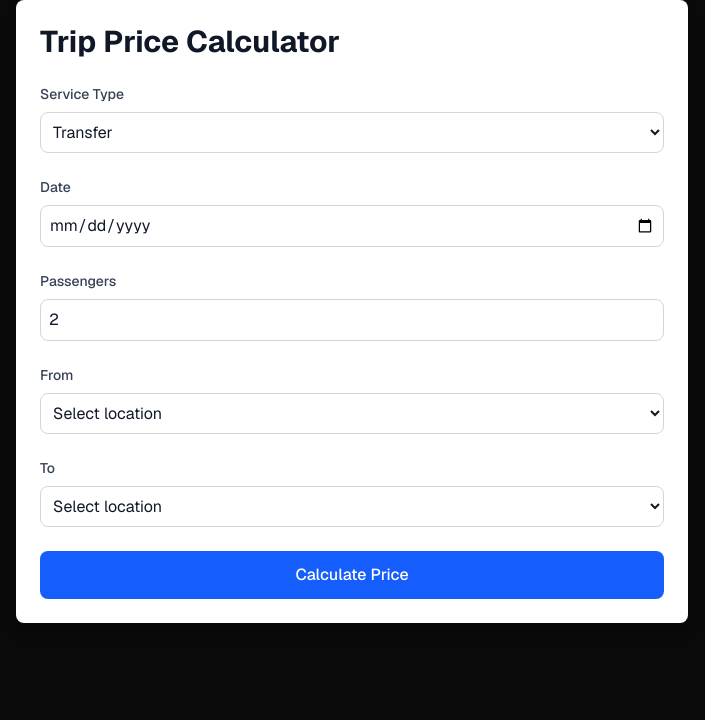
Test: Calculator Component › Special Requests › should display special request message when returned from API
Select "Transfer" in the dropdown labelled "Service Type" at {"x": 352, "y": 132}, box [40,112,664,153]
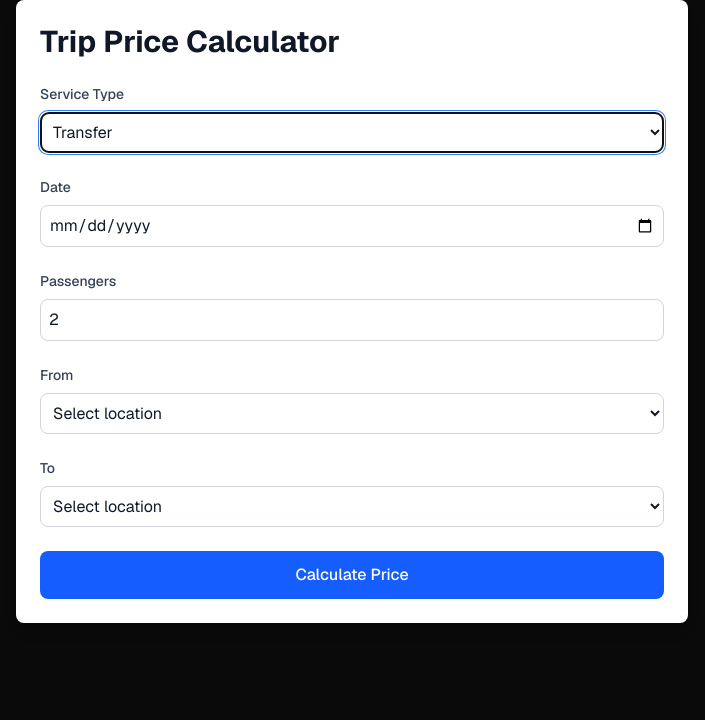
Type "2024-07-15" into the date field labelled "Date" at {"x": 352, "y": 226}, box [40,205,664,247]
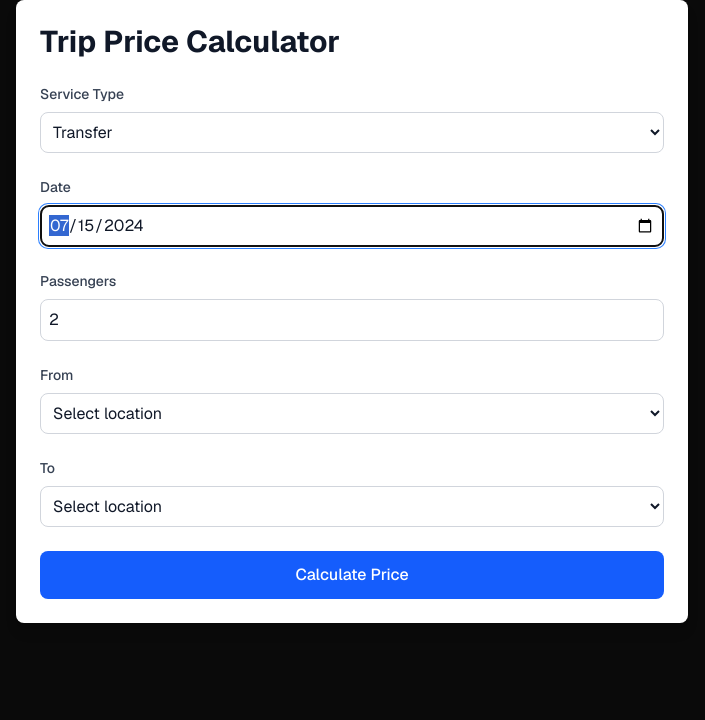
Replace the text in the number field labelled "Passengers" with "4" at {"x": 352, "y": 320}, box [40,299,664,341]
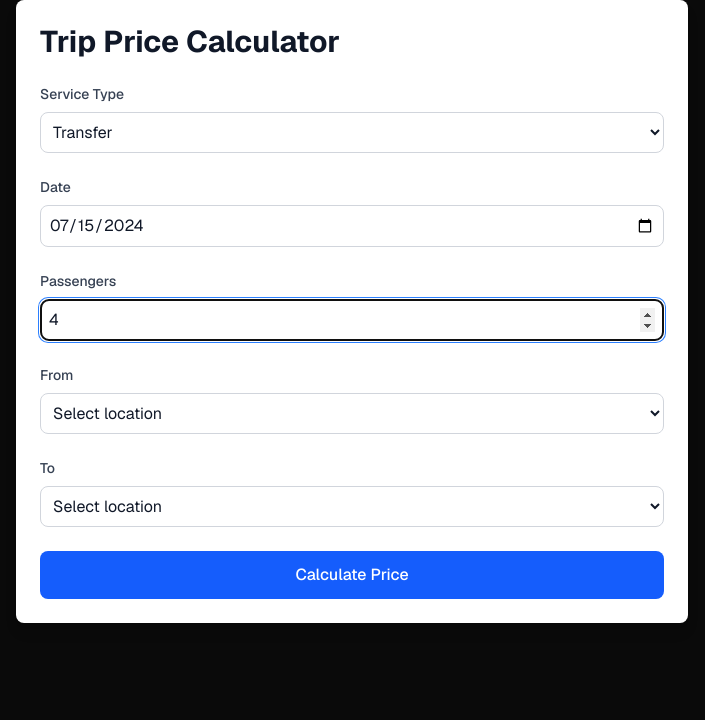
Select "Dubrovnik" in the dropdown labelled "From" at {"x": 352, "y": 414}, box [40,393,664,434]
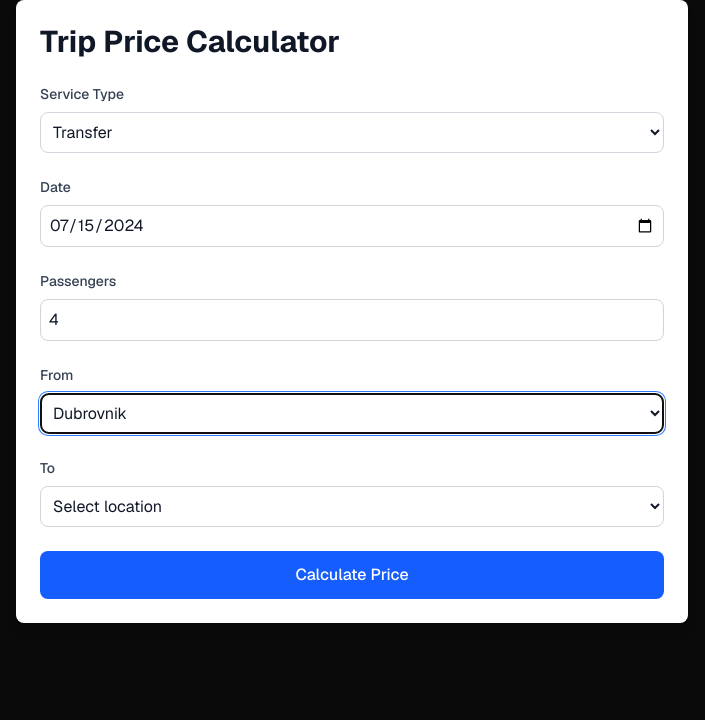
Select "Makarska" in the dropdown labelled "To" at {"x": 352, "y": 506}, box [40,486,664,527]
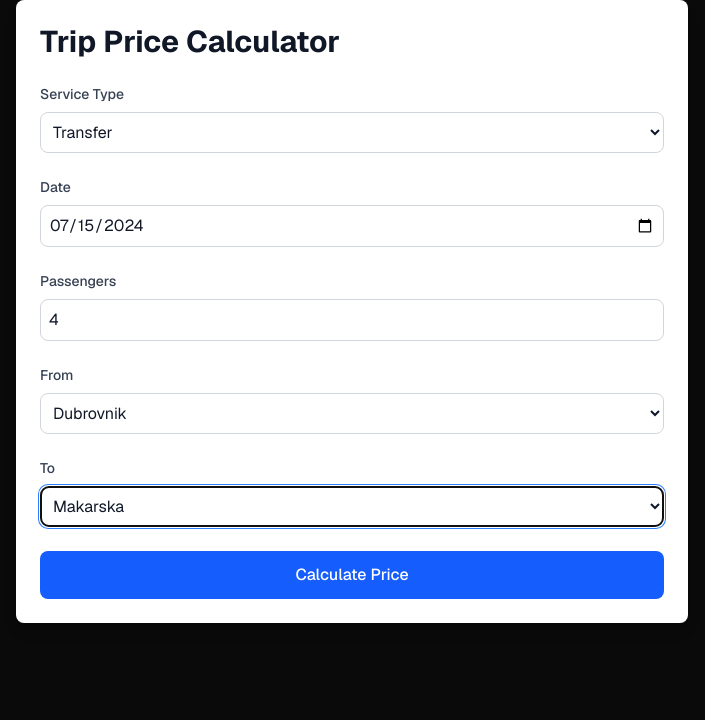
Click the button "Calculate Price" at {"x": 352, "y": 575}, box [40,551,664,599]
(page scrolled)
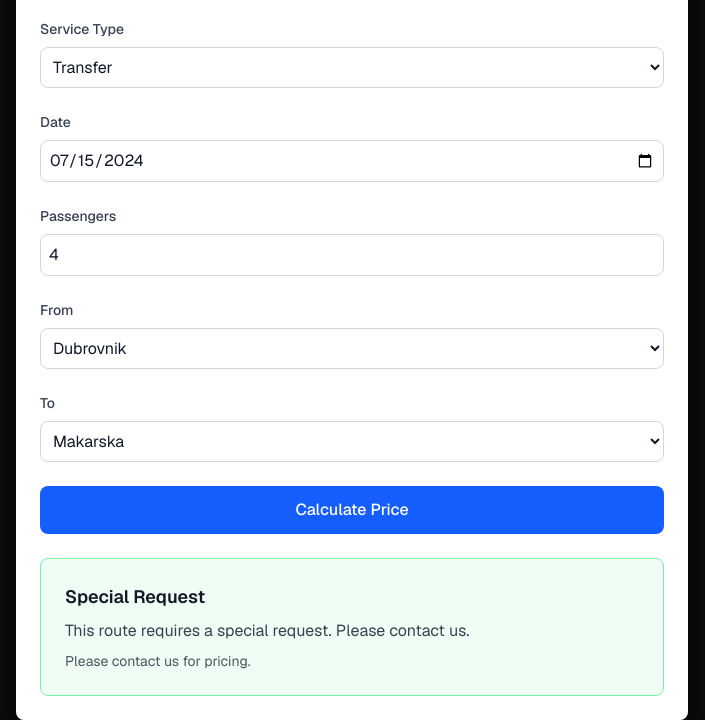
Result: the text "This route requires a special request. Please contact us." is shown at [65,620,470,641]
Result: the text "Please contact us for pricing." is shown at [65,652,251,670]
